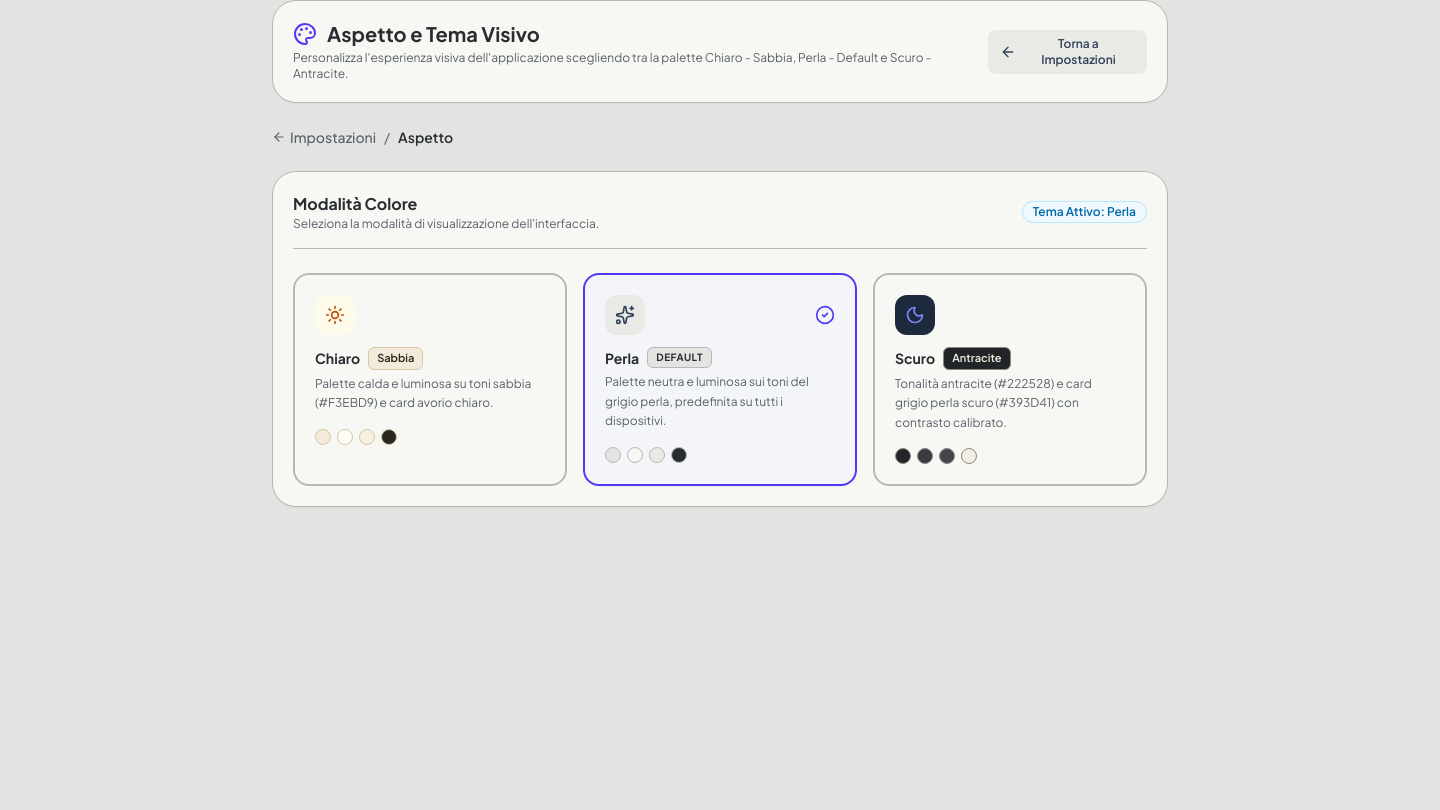
Test: Fase 8.3C - Sistema Globale dei Temi (Perla Default / Chiaro Sabbia / Scuro Antracite) › 11-15. Pagina Aspetto: 3 card (Chiaro, Perla, Scuro), badge attivi, radiogroup accessibile e Gabbia B
Check: the heading "Aspetto e Tema Visivo" is shown, box x1=327 y1=21 x2=540 y2=46
Check: the text "Torna a Impostazioni" is shown, box x1=1041 y1=36 x2=1116 y2=66
Note: Selezione di Scuro tramite click sulla card
Click the radio button that starts with "Scuro".
click(1010, 380)  # box x1=873 y1=273 x2=1147 y2=486
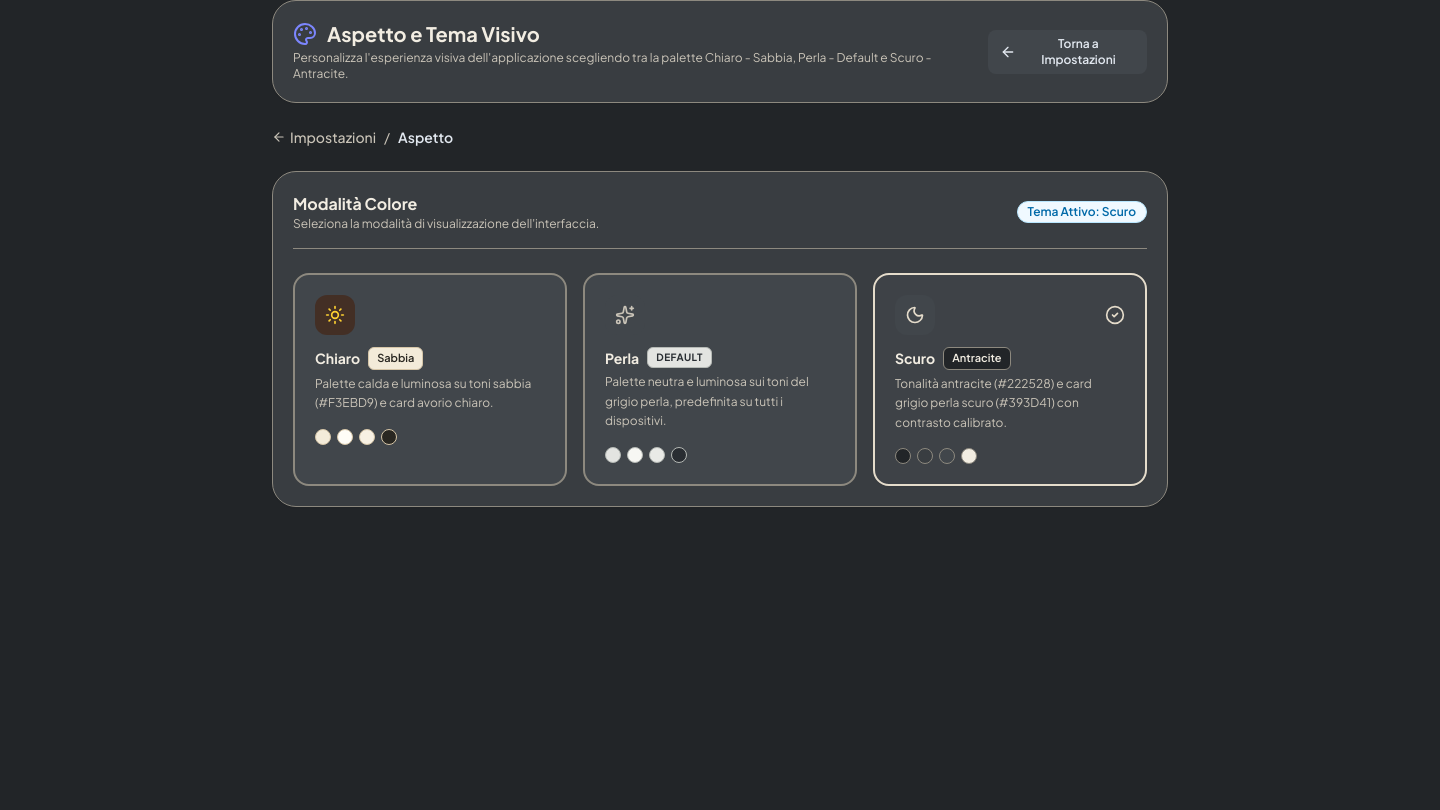
Check: the text "Tema Attivo: Scuro" is shown, box x1=1017 y1=201 x2=1147 y2=223
Note: Selezione di Chiaro tramite tastiera (Enter)
Press Enter in the radio button that starts with "Chiaro", box x1=293 y1=273 x2=567 y2=486
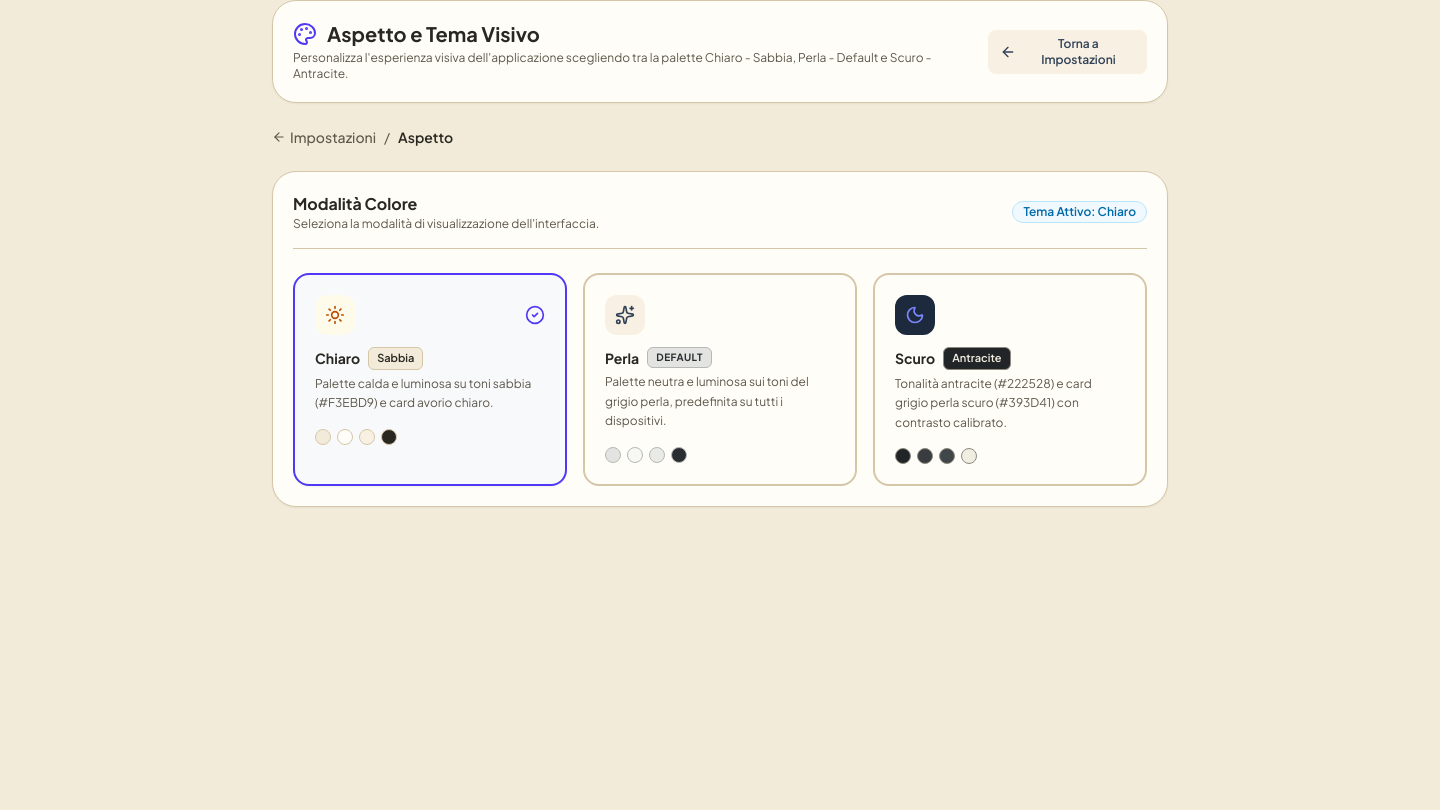
Check: the text "Tema Attivo: Chiaro" is shown, box x1=1012 y1=201 x2=1147 y2=223
Note: Selezione di Perla tramite tastiera (Spazio)
Press Space in the radio button that starts with "Perla", box x1=583 y1=273 x2=857 y2=486
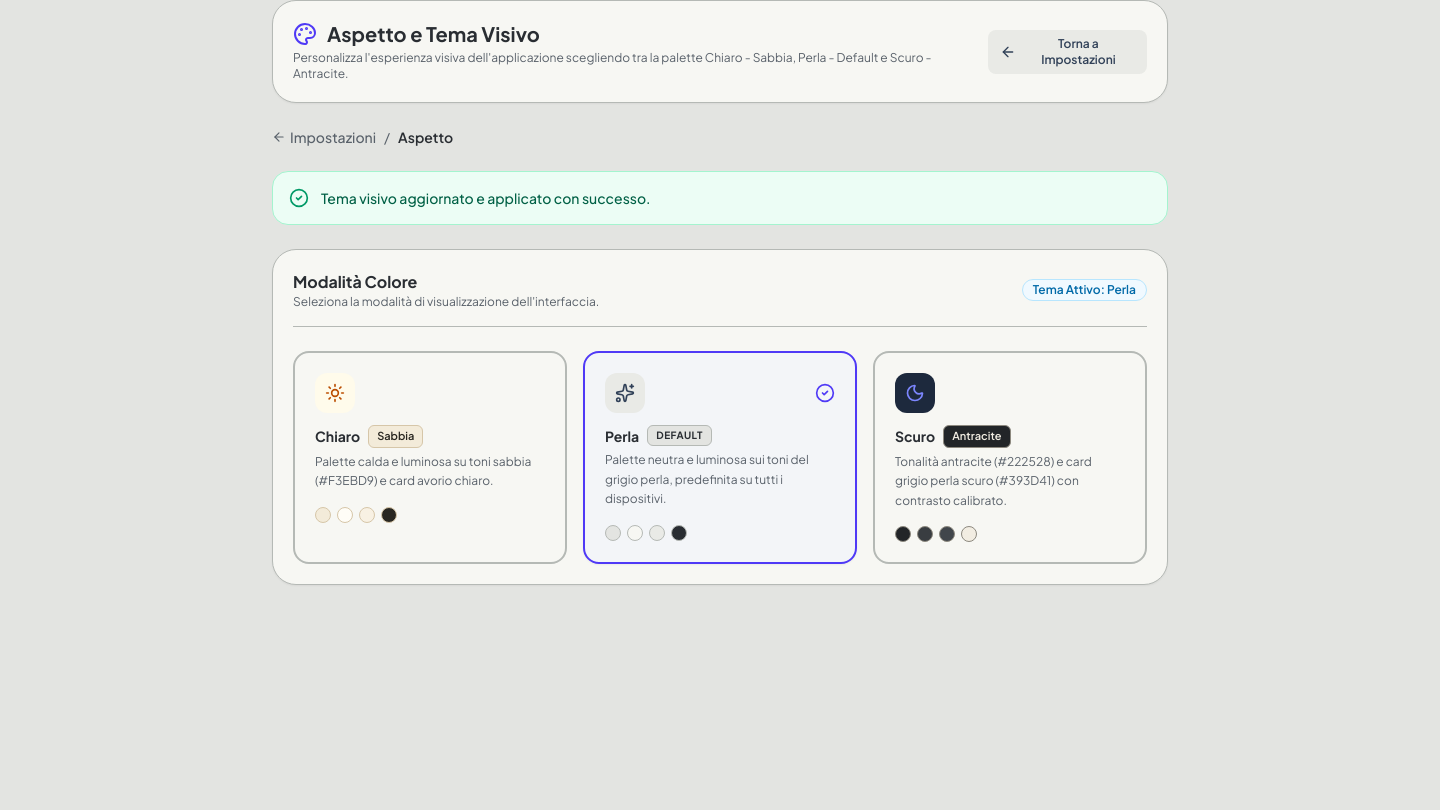
Check: the text "Tema Attivo: Perla" is shown, box x1=1022 y1=279 x2=1147 y2=301
